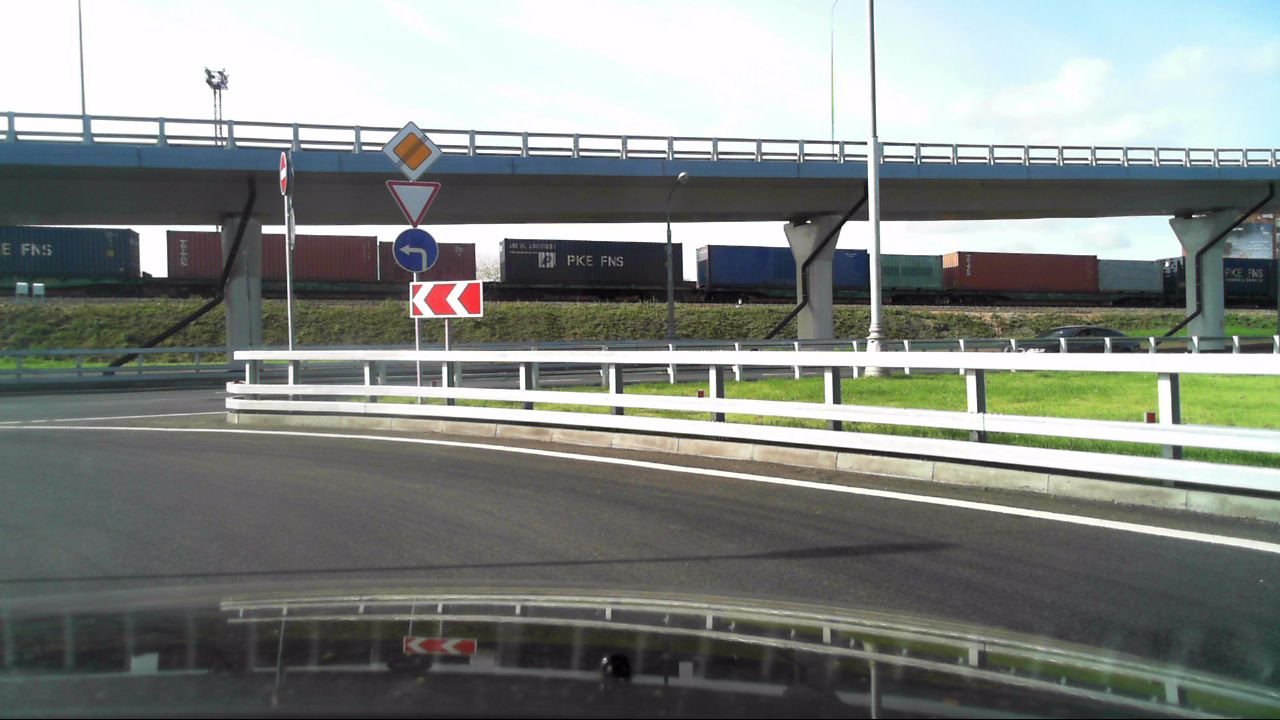main road: (377, 120, 445, 181)
